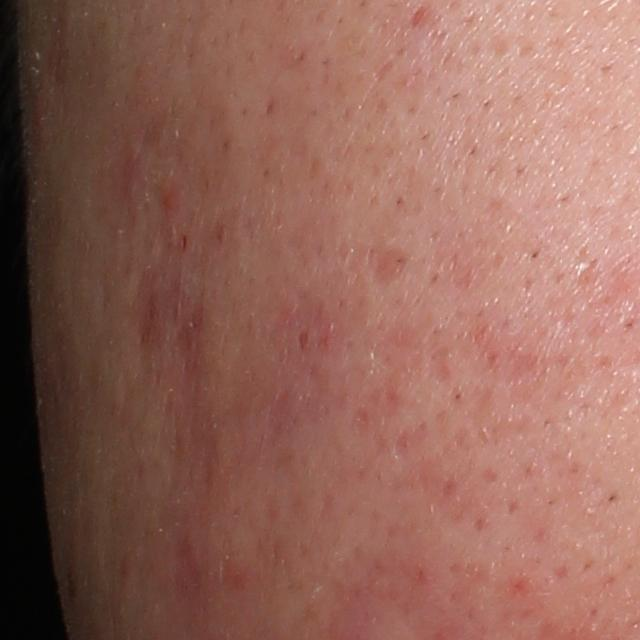atrophic_scar: (372, 238, 409, 287)
papule: (159, 185, 189, 223)
